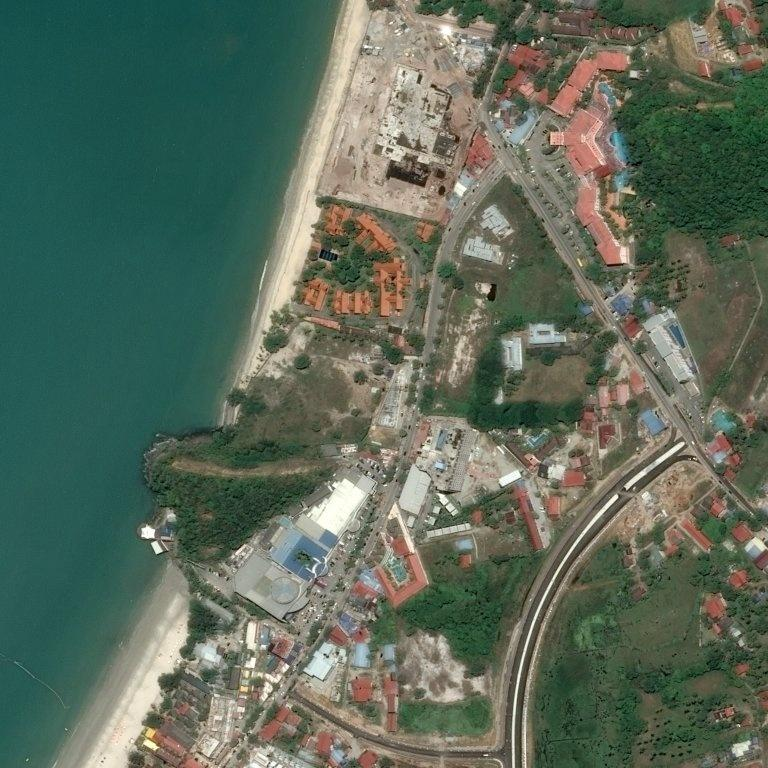ship: (25, 756, 31, 762), (64, 727, 69, 732), (67, 728, 69, 730), (27, 757, 28, 758), (29, 760, 30, 761), (3, 761, 4, 762), (66, 730, 67, 731), (65, 727, 65, 728)
